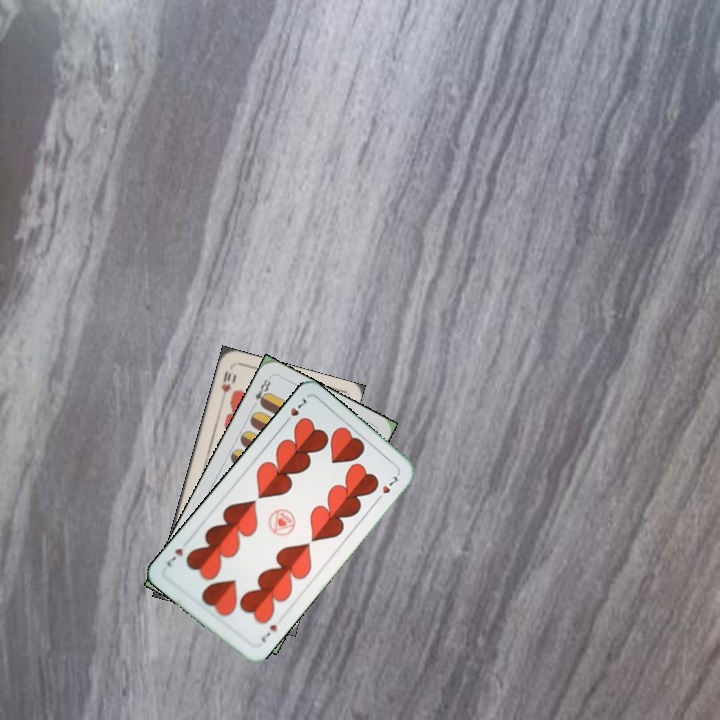E8: (248, 373, 273, 411)
H10: (217, 366, 234, 403)
H7: (280, 393, 309, 428), (257, 621, 280, 645)
